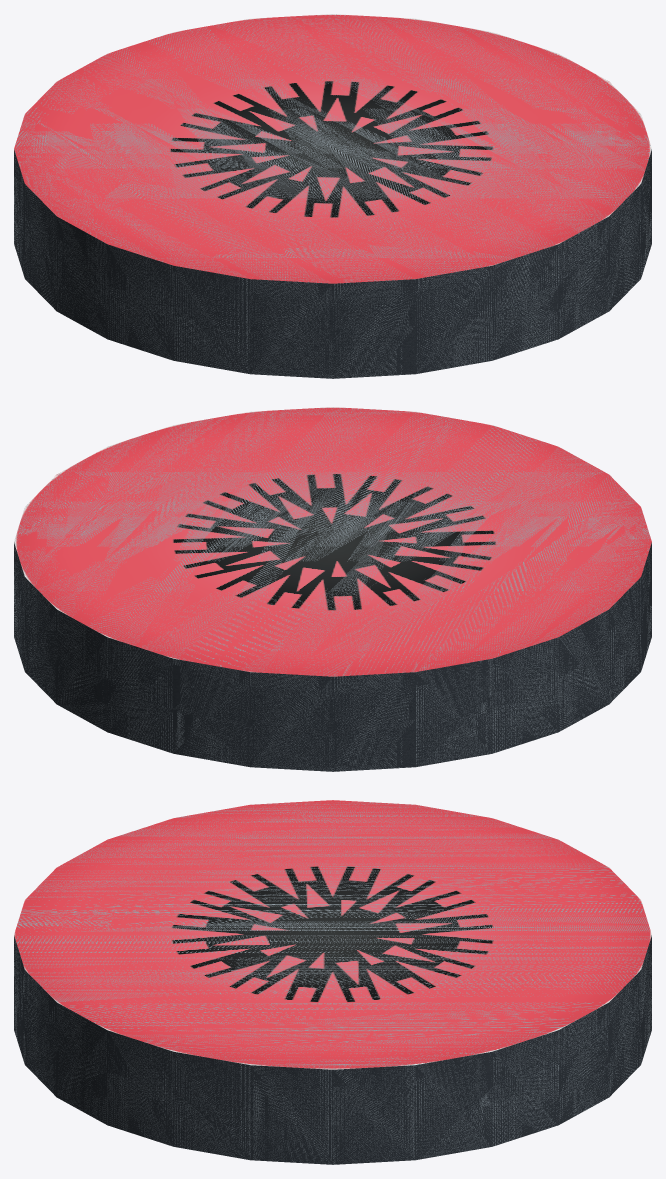
The model's file is atom1.dae.
3 views of the same model, one above another, from view 1: azimuth 30°, elevation 25°; view 2: azimuth 150°, elevation 25°; view 3: azimuth 270°, elevation 25° (orthographic).
Visible parts, largest first — view 1: SketchUp (×2); view 2: SketchUp (×2); view 3: SketchUp (×2).
Part boxes in pixels (x1,y1,x2,y2): SketchUp (×2): (14,14,651,378); SketchUp (×2): (14,407,651,771); SketchUp (×2): (14,800,651,1164).
Bounding box in the file's own units: 5.98 × 5.98 × 0.9843.
3 materials, 2 textured.
